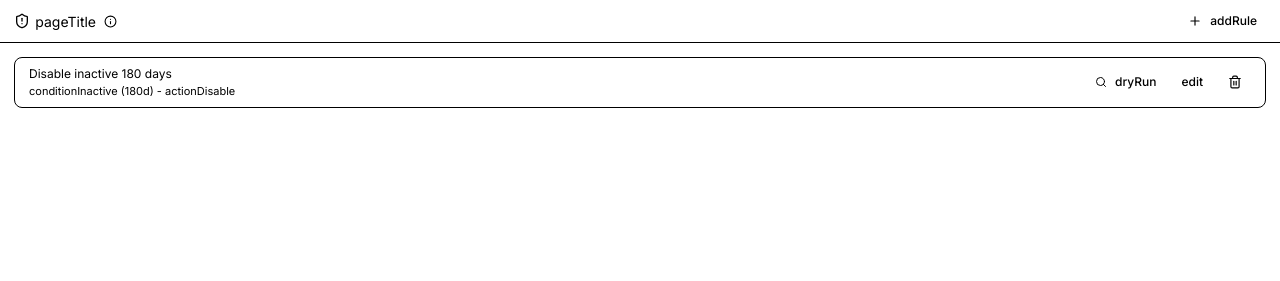
Test: AutomatedCleanup › runs dry run and shows matches
Click the button with test id "run-rule-0". click: {"x": 1126, "y": 82}
box: [1086,68,1165,96]
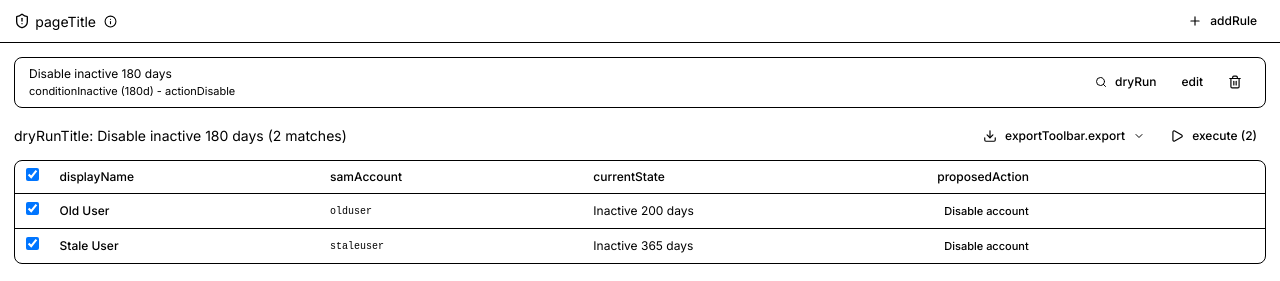
Expected: the element with test id "dry-run-results" is shown, [14,122,1266,264]
Expected: the text "Old User" is shown, [49,194,320,228]
Expected: the text "Stale User" is shown, [49,228,320,263]
